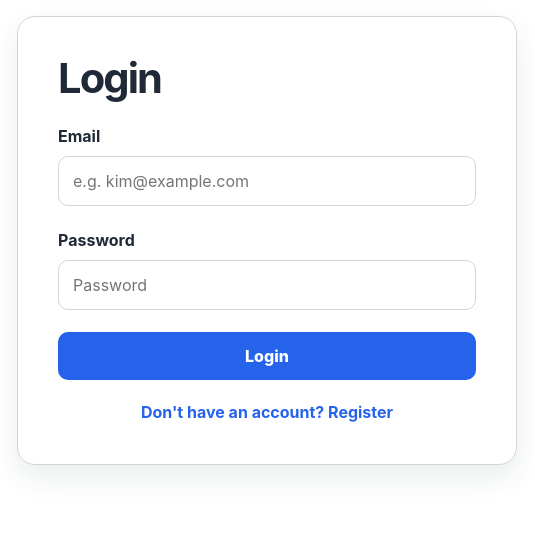
Scenario: CauseConnect login page › still explains blocked browser storage instead of claiming a successful login
This screenshot has width=535, height=538.
Step 1. Type "sam@example.test" into the field labelled "Email" → coordinates (267, 181), box [58, 156, 476, 206]
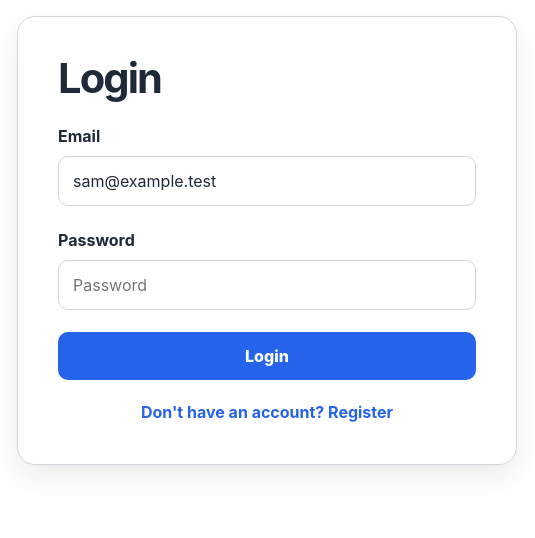
Step 2. Type "Password123!" into the password field labelled "Password" → coordinates (267, 285), box [58, 260, 476, 310]
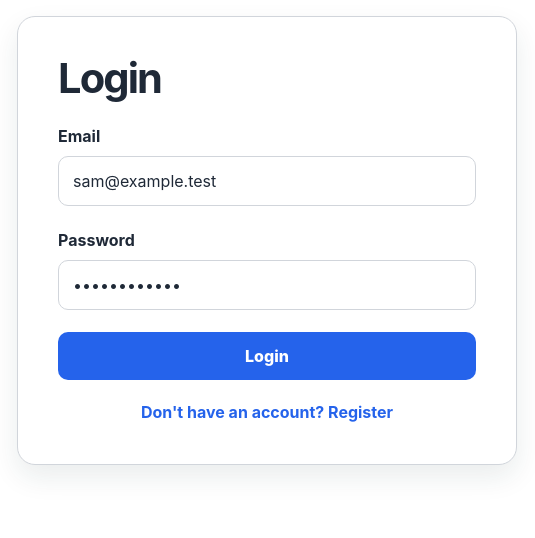
Step 3. Click the button "Login" → coordinates (267, 356), box [58, 332, 476, 380]
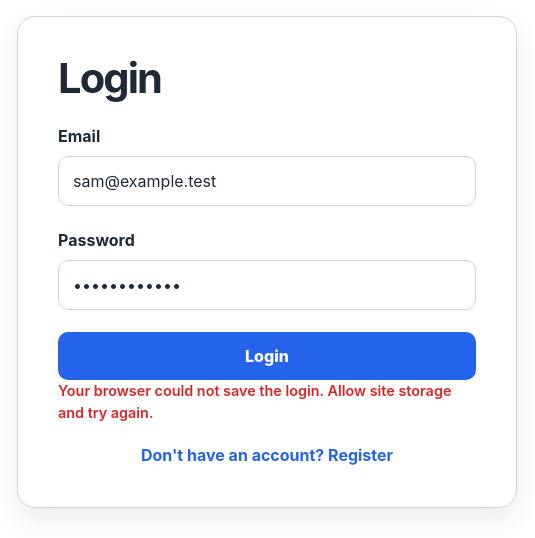
Now the message shows "Allow site storage and try again", box [58, 382, 451, 421]
